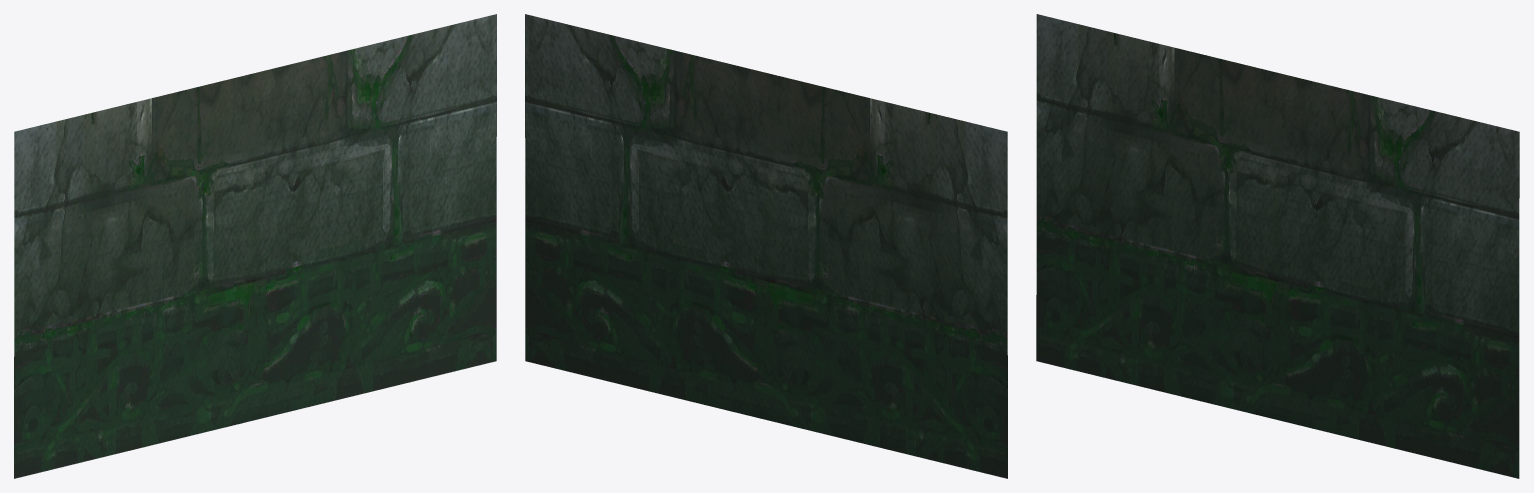
The model's file is stemple_half_straight_10.fbx.
The picture shows the model from 3 angles, left to right: view 1: azimuth 30°, elevation 25°; view 2: azimuth 150°, elevation 25°; view 3: azimuth 330°, elevation 25°; orthographic projection.
Parts seen in each view (by area): view 1: obj0.421; view 2: obj0.421; view 3: obj0.421.
Part boxes in pixels (box(x1,y1,x2,y2)): obj0.421: box(14, 14, 496, 478); obj0.421: box(525, 14, 1007, 478); obj0.421: box(1036, 14, 1519, 478).
Size of the model in its own units: 4 by 2.75 by 0.00037.
